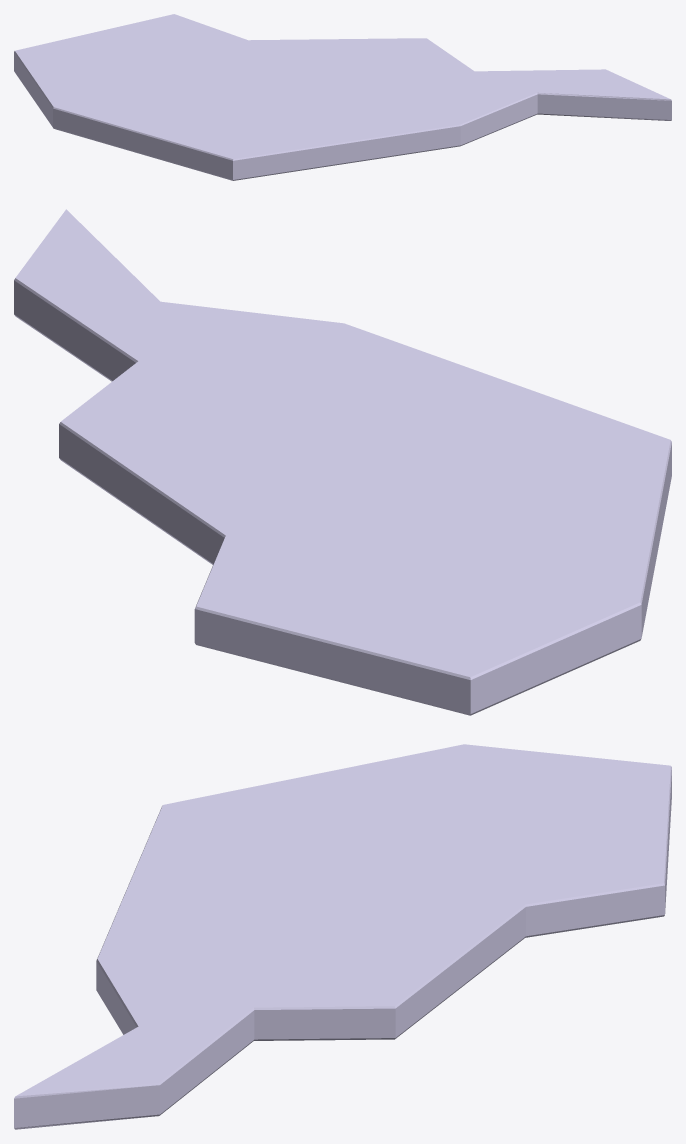
File: CYP.glb
3 renders of one model, top to bottom at view 1: azimuth 30°, elevation 25°; view 2: azimuth 150°, elevation 25°; view 3: azimuth 270°, elevation 25°, orthographic. The views are drawn at different scales.
Bounding box in the file's own units: 1.54 × 0.068 × 1.22.
